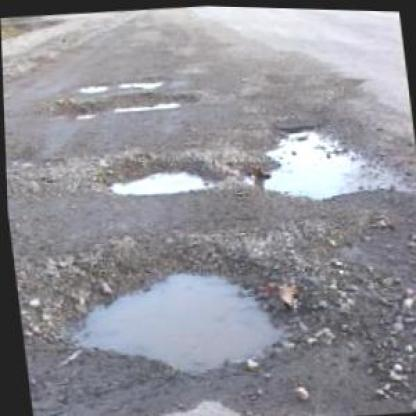pothole: (31, 218, 323, 392), (237, 111, 373, 205), (98, 147, 229, 200), (50, 83, 201, 125), (65, 70, 169, 94)
